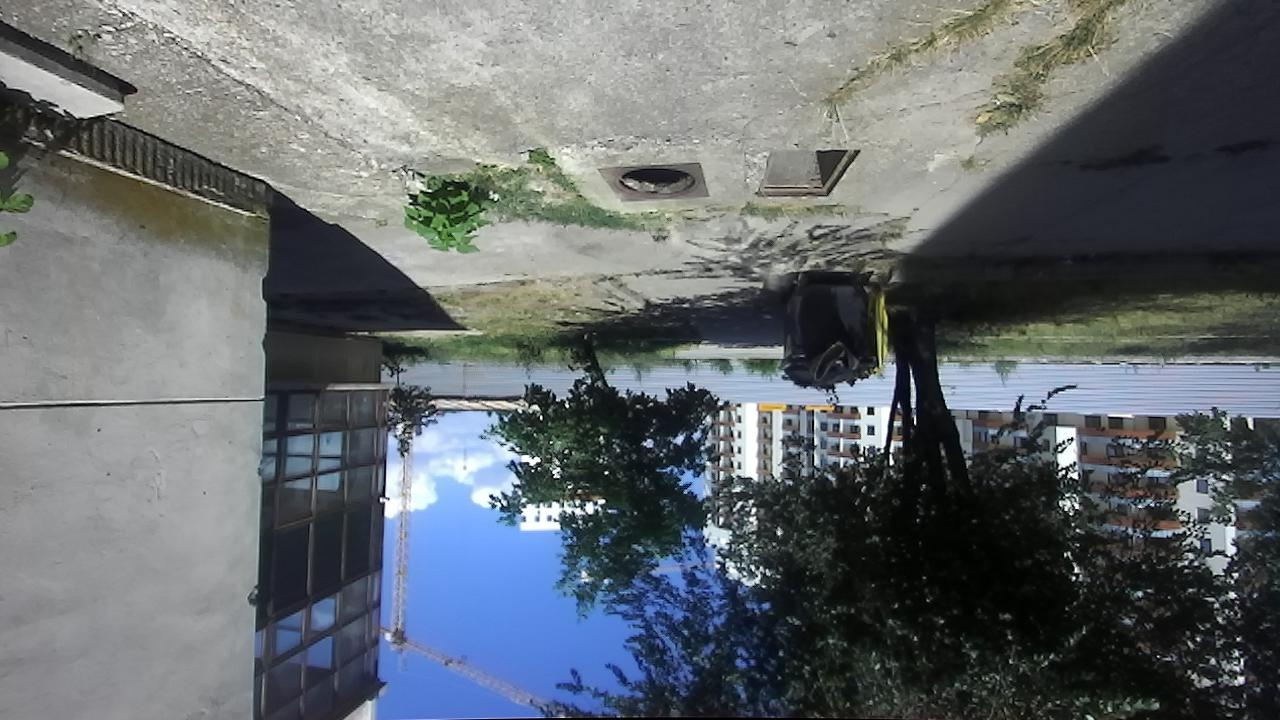drain: (750, 141, 865, 200), (608, 164, 697, 201)
